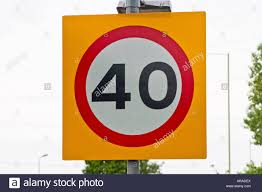Speed_limit_40km: (74, 25, 195, 146)
